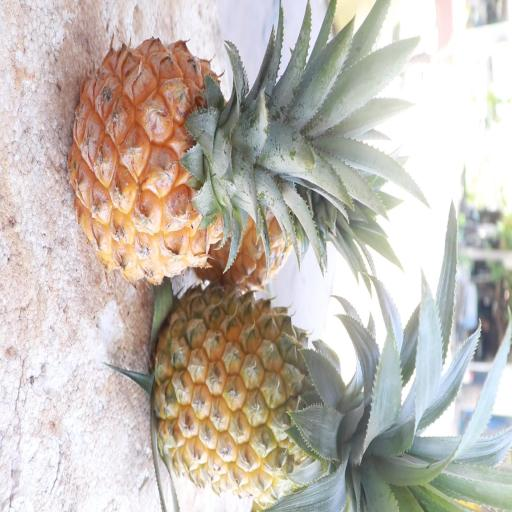Pineapple - v8 v1: (64, 34, 332, 290), (147, 274, 392, 496)
